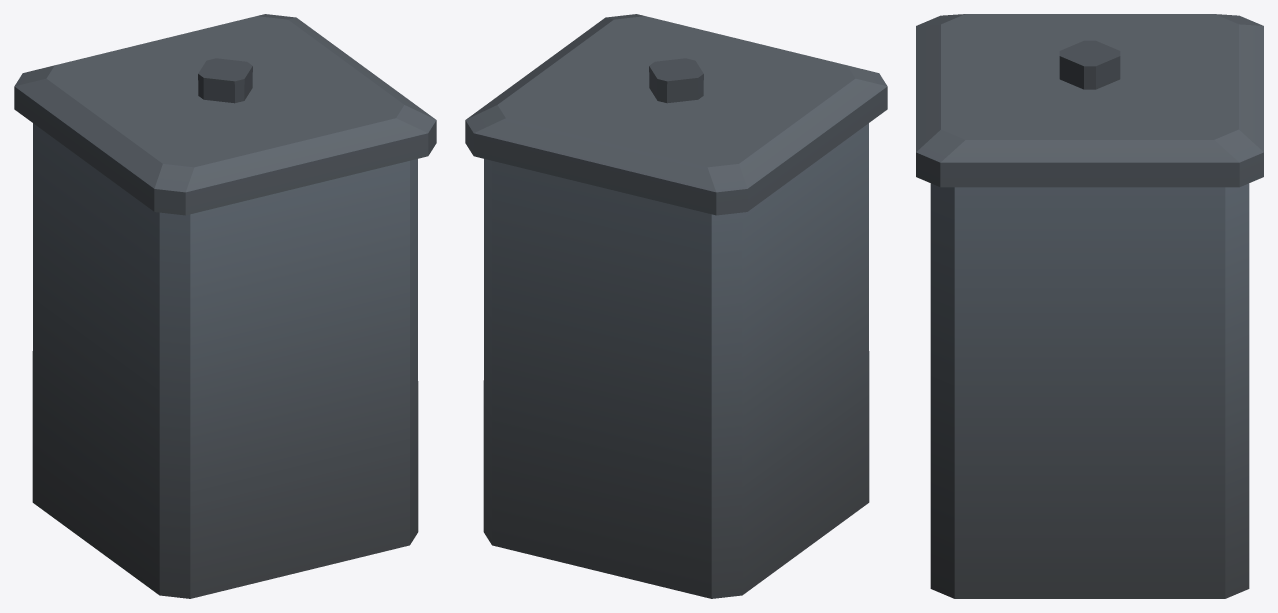
File: KitchenProps_16.fbx
3 views of the same model, side by side, from view 1: azimuth 30°, elevation 25°; view 2: azimuth 150°, elevation 25°; view 3: azimuth 270°, elevation 25° (orthographic). The views are drawn at different scales.
Visible parts, largest first — view 1: KitchenProps_16; view 2: KitchenProps_16; view 3: KitchenProps_16.
Part boxes in pixels (<box>): KitchenProps_16: <box>14,14,436,598</box>; KitchenProps_16: <box>465,14,887,598</box>; KitchenProps_16: <box>916,14,1263,598</box>.
Size of the model in its own units: 9.86 by 14.95 by 9.86.
